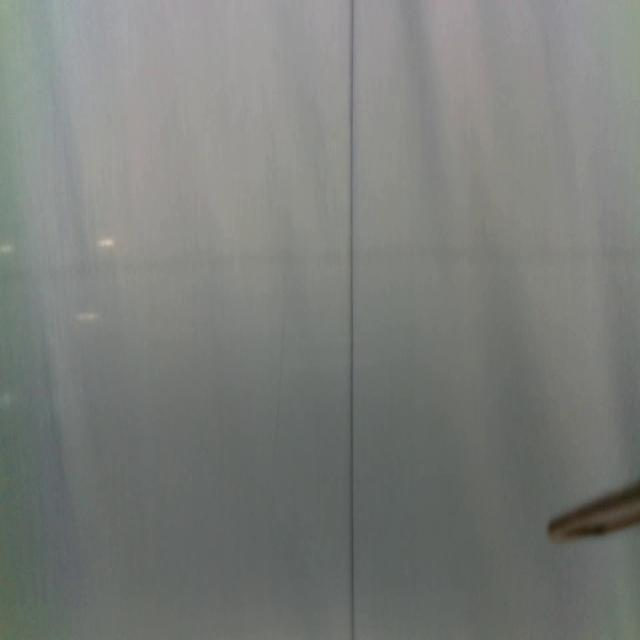color bleeding: (1, 231, 640, 291)
crease: (346, 1, 356, 640)
